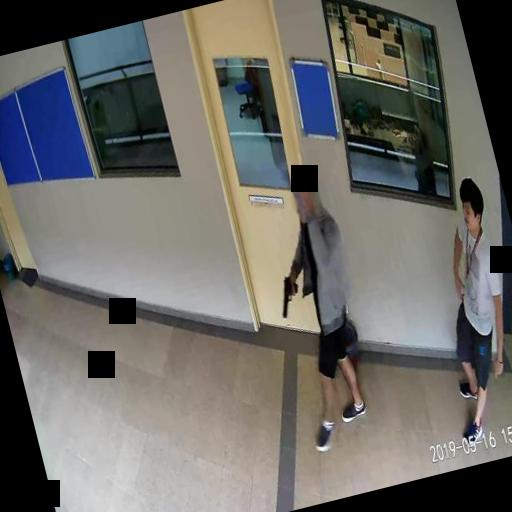Handgun: (272, 272, 304, 318)
